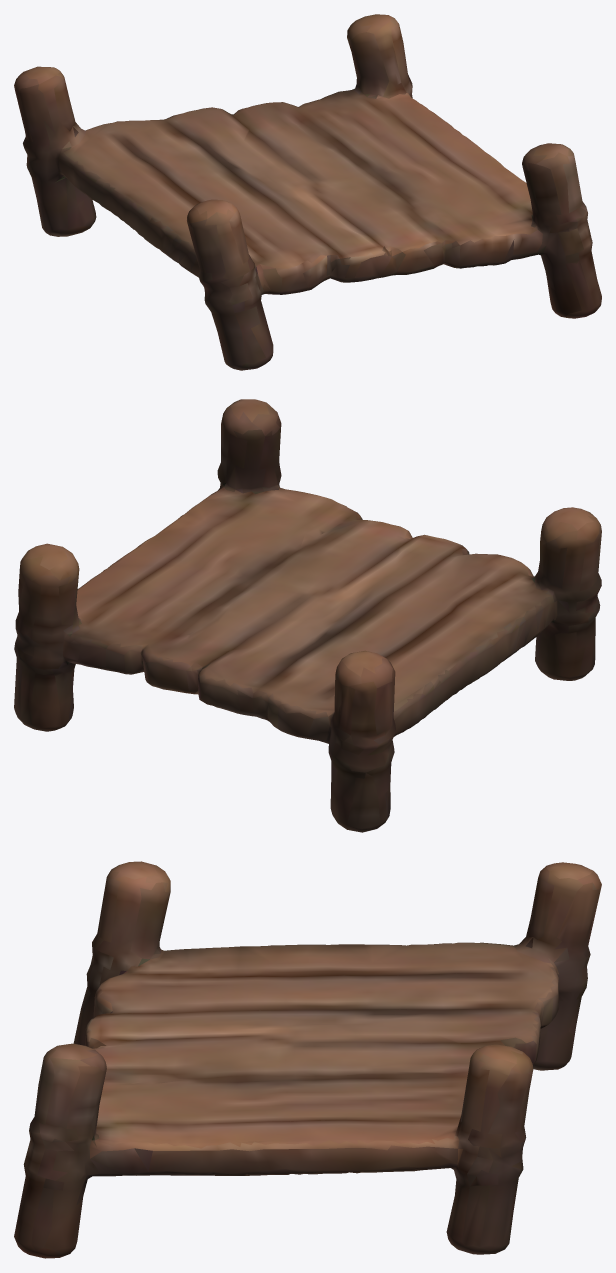
The model's file is m07_deque_estacas.glb.
The picture shows the model from 3 angles, top to bottom: view 1: azimuth 30°, elevation 25°; view 2: azimuth 150°, elevation 25°; view 3: azimuth 270°, elevation 25°; orthographic projection. The views are drawn at different scales.
Visible parts, largest first — view 1: m07_deque_estacas; view 2: m07_deque_estacas; view 3: m07_deque_estacas.
Boxes of the visible parts, x1,y1,x2,y2 form: m07_deque_estacas: (14,14,601,370); m07_deque_estacas: (14,399,601,832); m07_deque_estacas: (14,861,601,1258).
Size of the model in its own units: 1.02 by 0.4349 by 1.16.
Materials: 1 (1 with a texture image).
